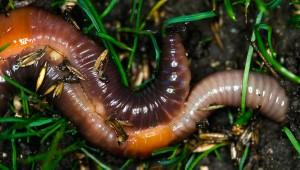earthworms: (0, 11, 284, 144)
